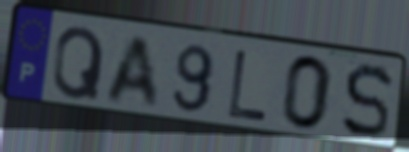0: (278, 54, 339, 133)
9: (173, 42, 217, 117)
A: (102, 33, 162, 111)
L: (225, 47, 270, 125)
Q: (51, 25, 108, 104)
S: (339, 61, 395, 142)
